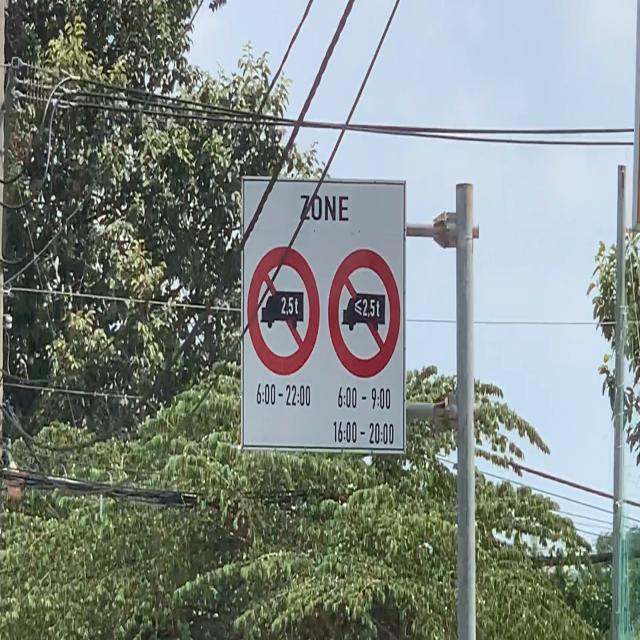Cam con lai: (328, 240, 401, 382), (248, 244, 320, 380)
